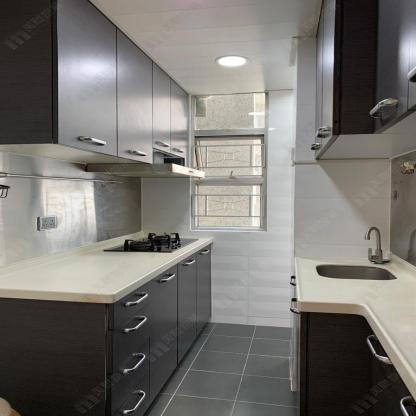Cupboard: (1, 241, 212, 415), (58, 1, 191, 161)
Exhaust Hood: (83, 152, 203, 177)
Faucet: (357, 222, 390, 266)
Sink: (318, 265, 393, 280)
Stove: (105, 230, 196, 252)
